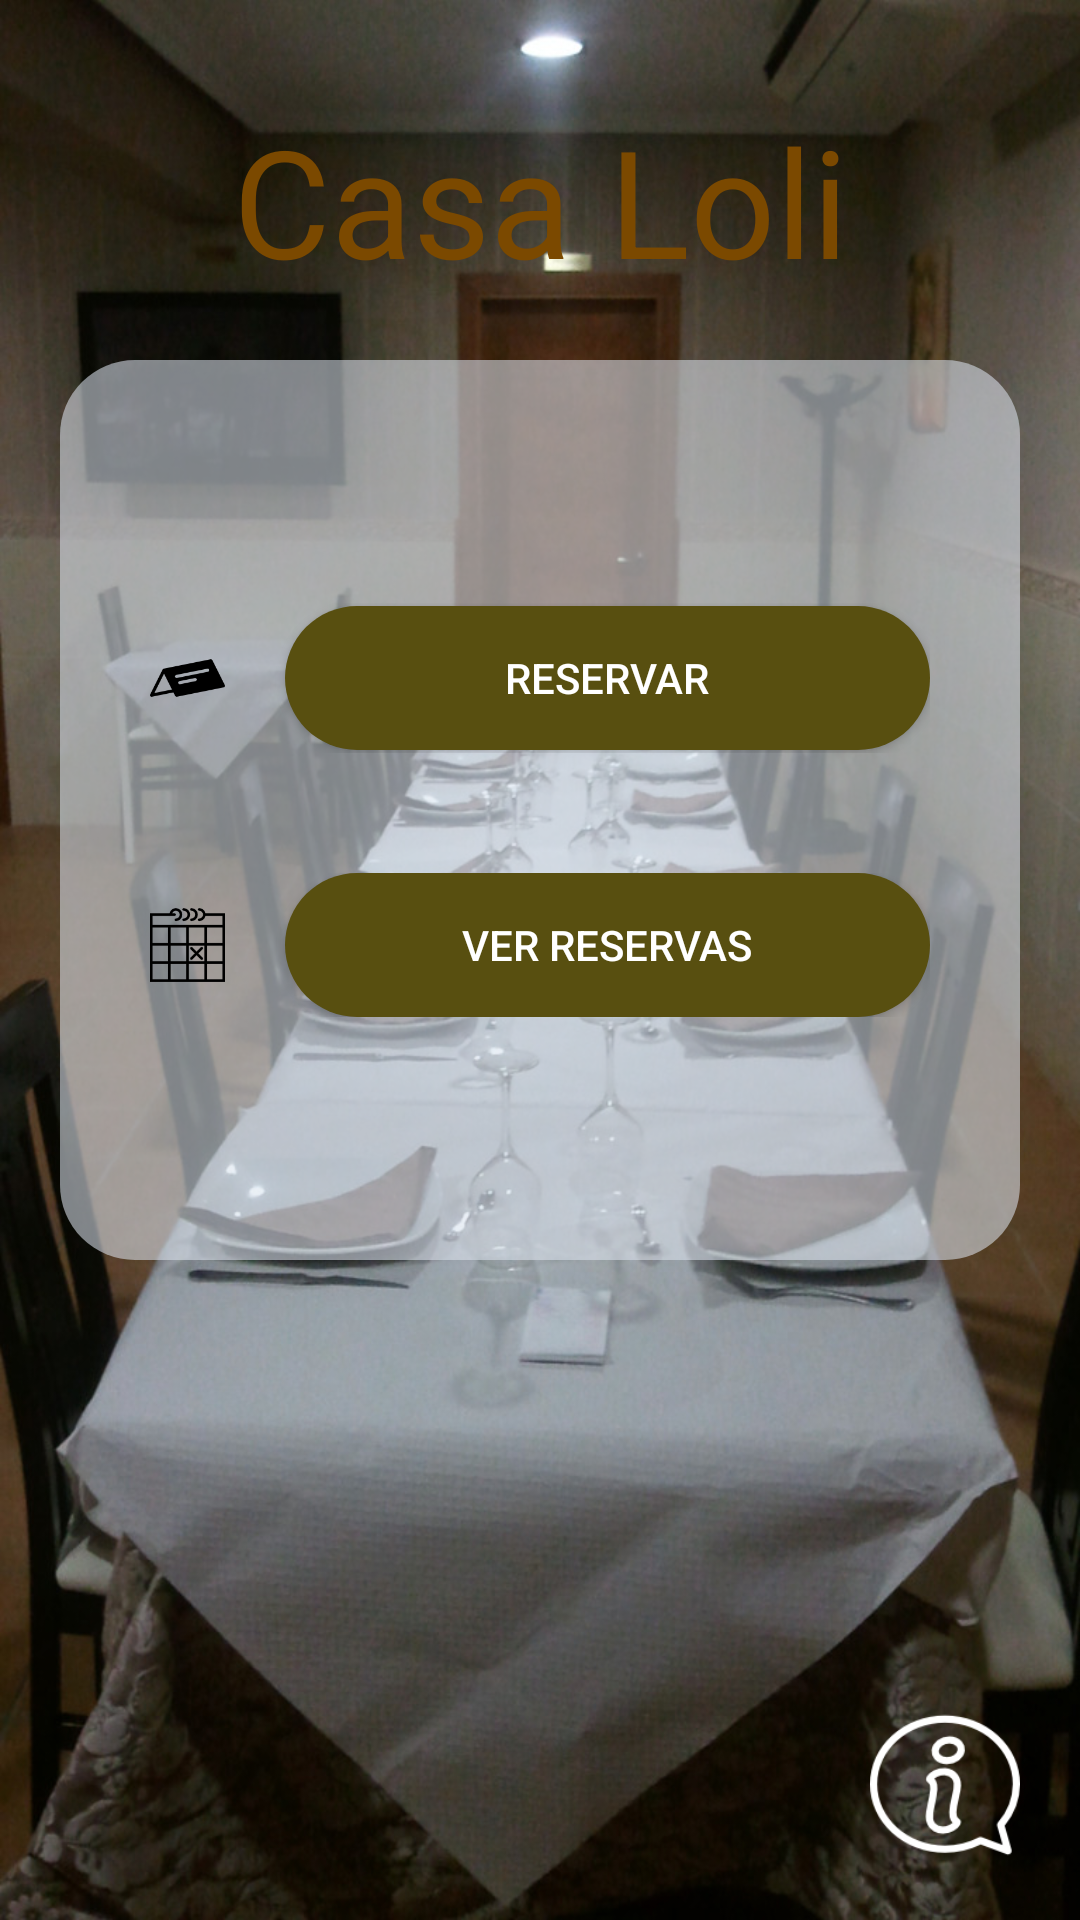

Icon click points for this 1080px×1920px phone screenshot, format point (x, y):
calendar: point (187, 945)
information: point (945, 1785)
